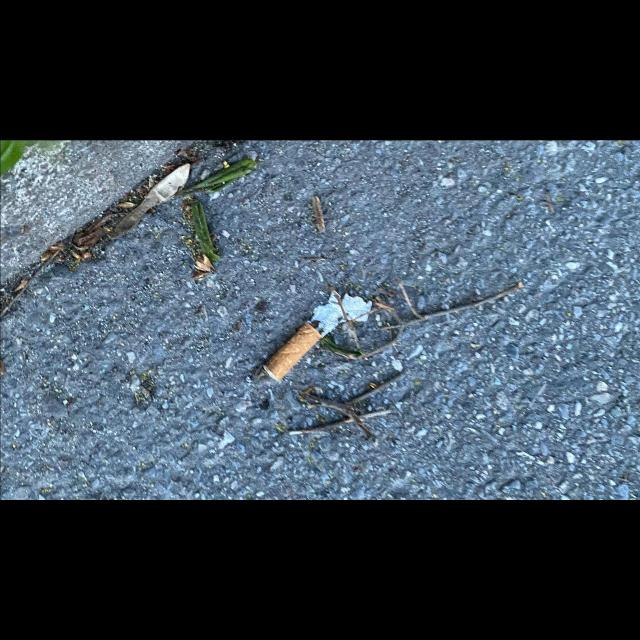cigarette: (262, 289, 372, 382)
